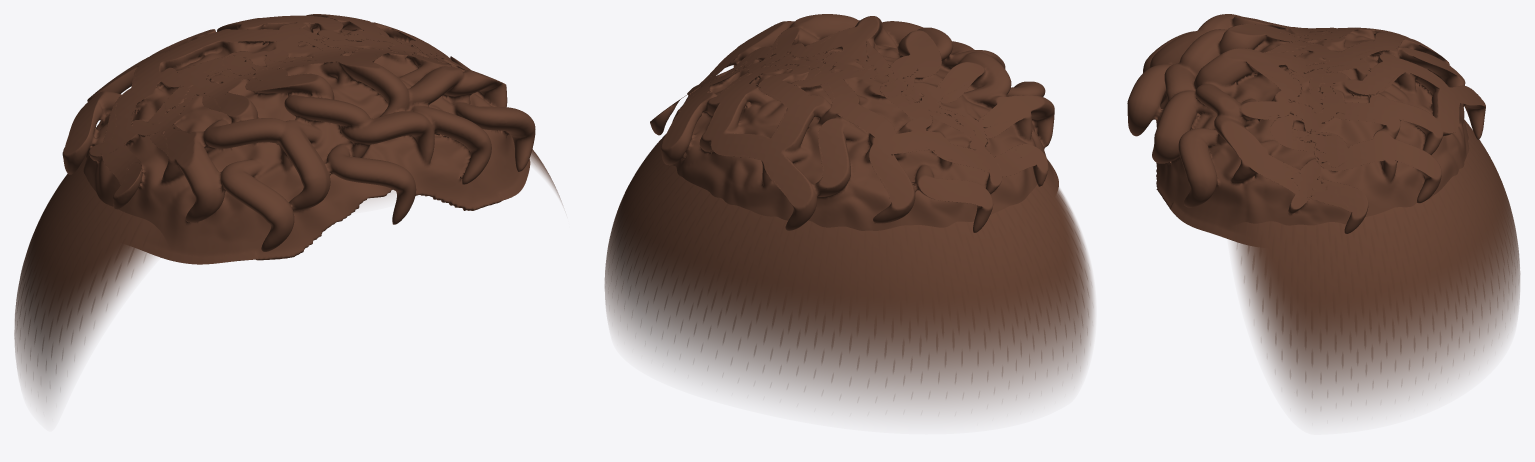
The model's file is Masculine-curly-top-pashmina258-hair.glb.
3 views of the same model, side by side, from view 1: azimuth 30°, elevation 25°; view 2: azimuth 150°, elevation 25°; view 3: azimuth 270°, elevation 25° (orthographic). The views are drawn at different scales.
Visible parts, largest first — view 1: 226 hair / Hair252 / sculpted curl groups, 226 hair / Hair258 / smooth side fade, 226 hair / Hair258 / directional fade marks; view 2: 226 hair / Hair258 / smooth side fade, 226 hair / Hair252 / sculpted curl groups, 226 hair / Hair258 / directional fade marks; view 3: 226 hair / Hair252 / sculpted curl groups, 226 hair / Hair258 / smooth side fade, 226 hair / Hair258 / directional fade marks.
Part boxes in pixels (x1=…): 226 hair / Hair252 / sculpted curl groups: x1=62, y1=14, x2=535, y2=264; 226 hair / Hair258 / smooth side fade: x1=14, y1=149, x2=562, y2=408; 226 hair / Hair258 / directional fade marks: x1=15, y1=155, x2=534, y2=369; 226 hair / Hair258 / smooth side fade: x1=605, y1=134, x2=1094, y2=414; 226 hair / Hair252 / sculpted curl groups: x1=650, y1=14, x2=1058, y2=232; 226 hair / Hair258 / directional fade marks: x1=614, y1=134, x2=1088, y2=386; 226 hair / Hair252 / sculpted curl groups: x1=1127, y1=14, x2=1485, y2=245; 226 hair / Hair258 / smooth side fade: x1=1230, y1=119, x2=1519, y2=415; 226 hair / Hair258 / directional fade marks: x1=1235, y1=124, x2=1515, y2=396.
Bounding box in the file's own units: 0.9705 × 0.6388 × 0.7492.
